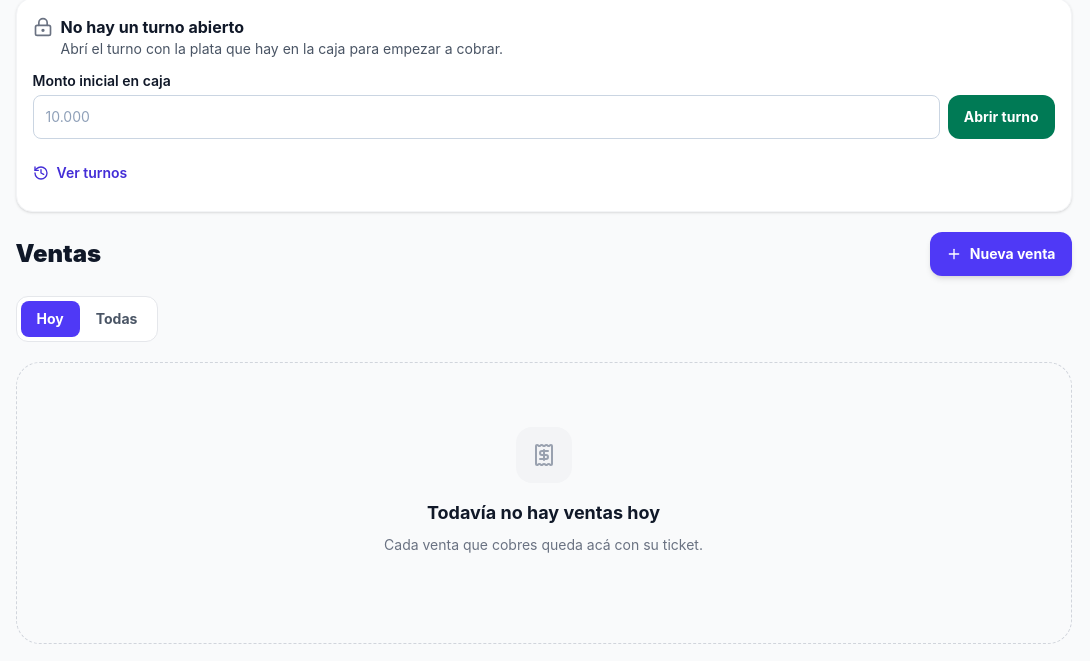
Test: Historial de ventas (/ventas) › si otra persona abrió el turno al mismo tiempo, muestra el aviso y trae el turno abierto
Type "5000" into the field labelled "Monto inicial en caja" at (486,117), box [32,95,940,139]
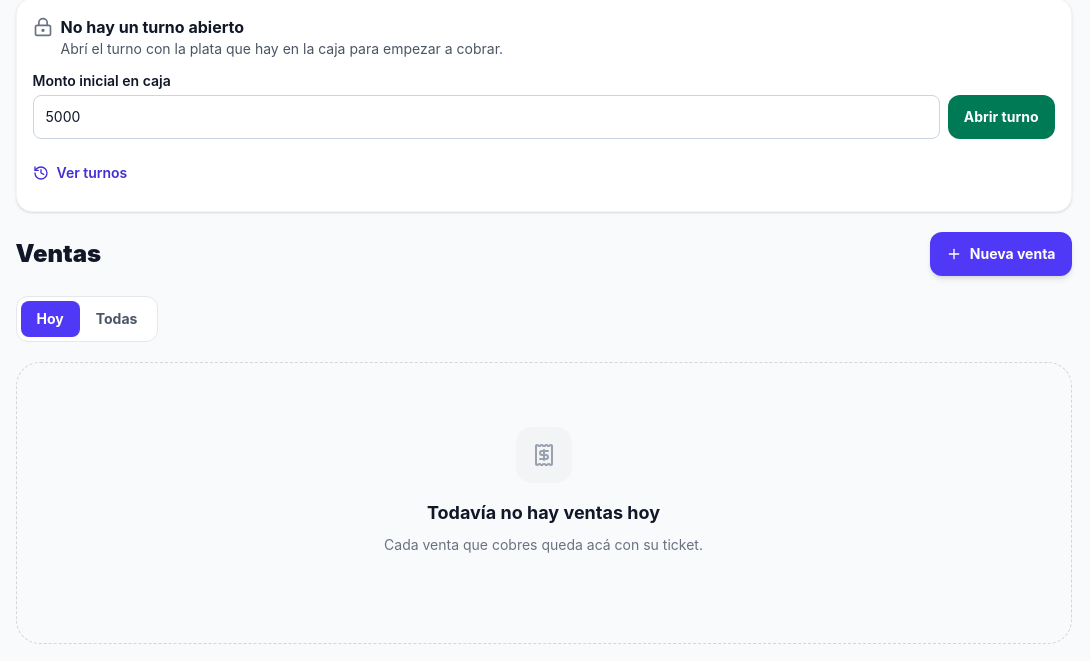
Click the button "Abrir turno" at (1001,117), box [948,95,1054,139]
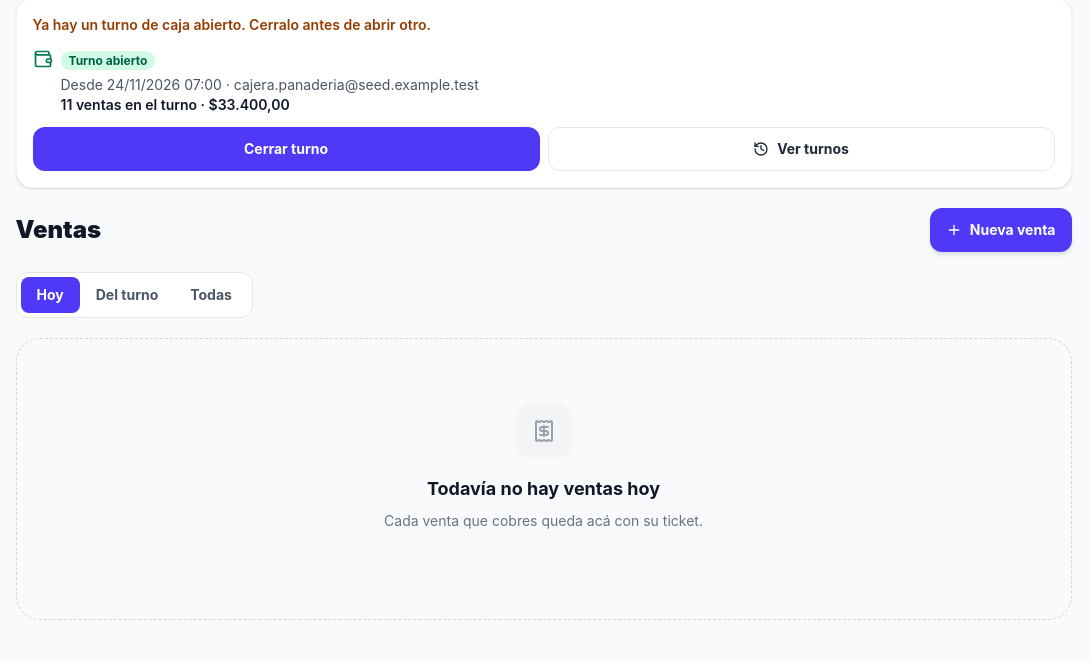
Expected: the text "Turno abierto" is shown, [60,51,155,70]
Now the text "Ya hay un turno de caja abierto. Cerralo antes de abrir otro." is shown, box [32,16,431,33]
